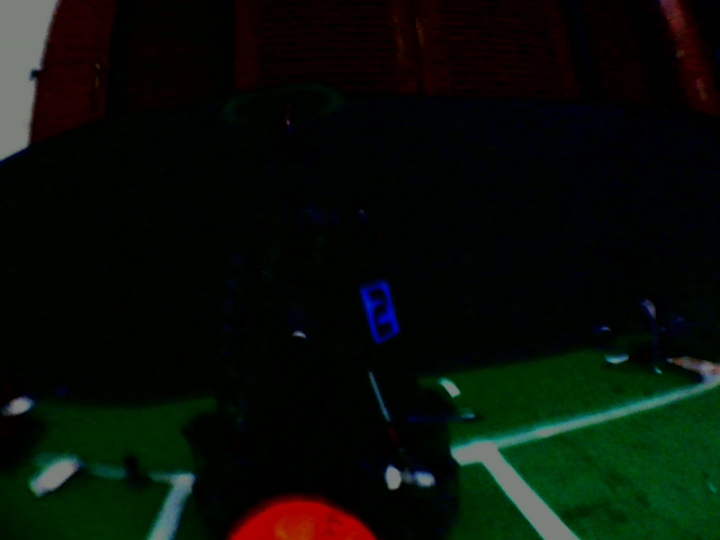bola: (212, 489, 376, 540)
